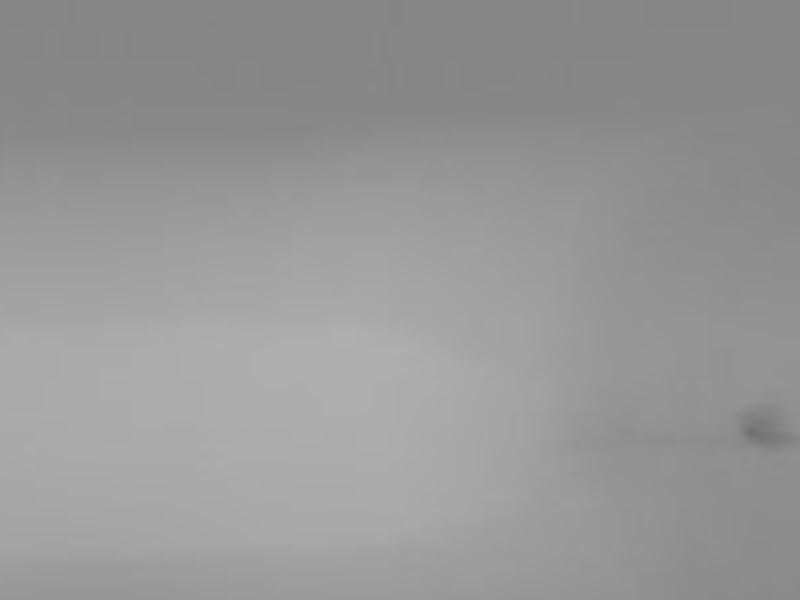defect: (734, 399, 794, 451)
